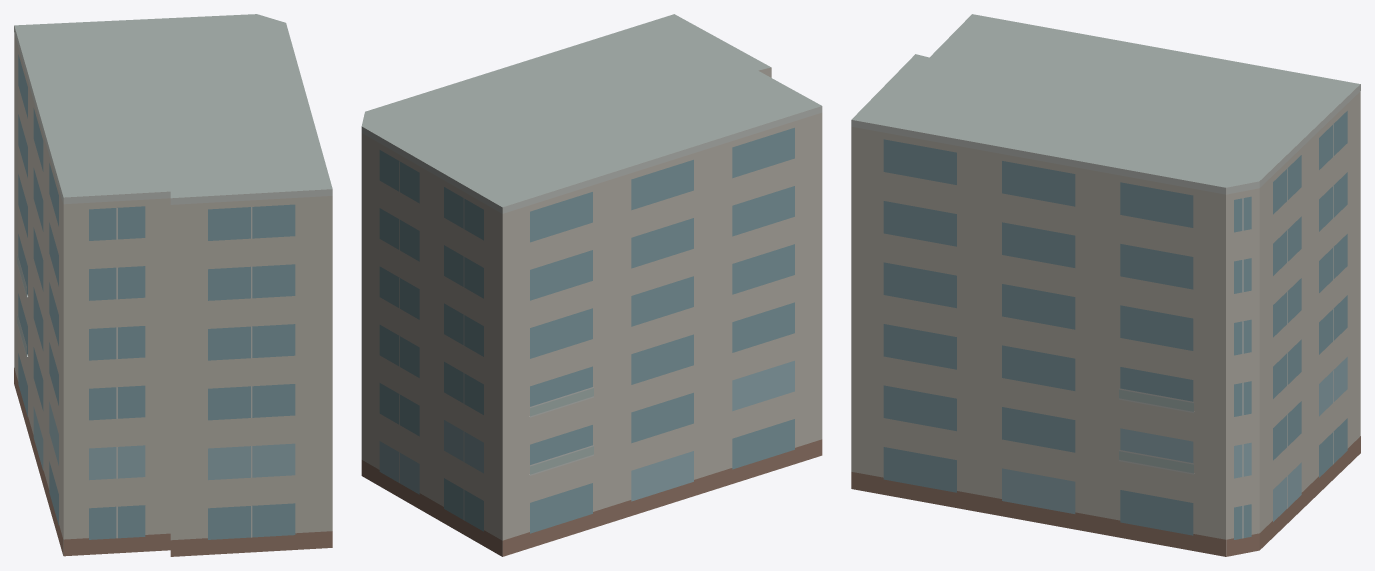
File: survey-upis-32529507.glb
3 renders of one model, left to right at view 1: azimuth 30°, elevation 25°; view 2: azimuth 150°, elevation 25°; view 3: azimuth 270°, elevation 25°, orthographic. The views are drawn at different scales.
Visible parts, largest first — view 1: survey-upis-32529507.tmp; view 2: survey-upis-32529507.tmp; view 3: survey-upis-32529507.tmp.
Boxes of the visible parts, x1,y1,x2,y2 form: survey-upis-32529507.tmp: (14,14,332,556); survey-upis-32529507.tmp: (361,14,822,556); survey-upis-32529507.tmp: (851,14,1360,556).
Bounding box in the file's own units: 13.13 × 13 × 16.27.
